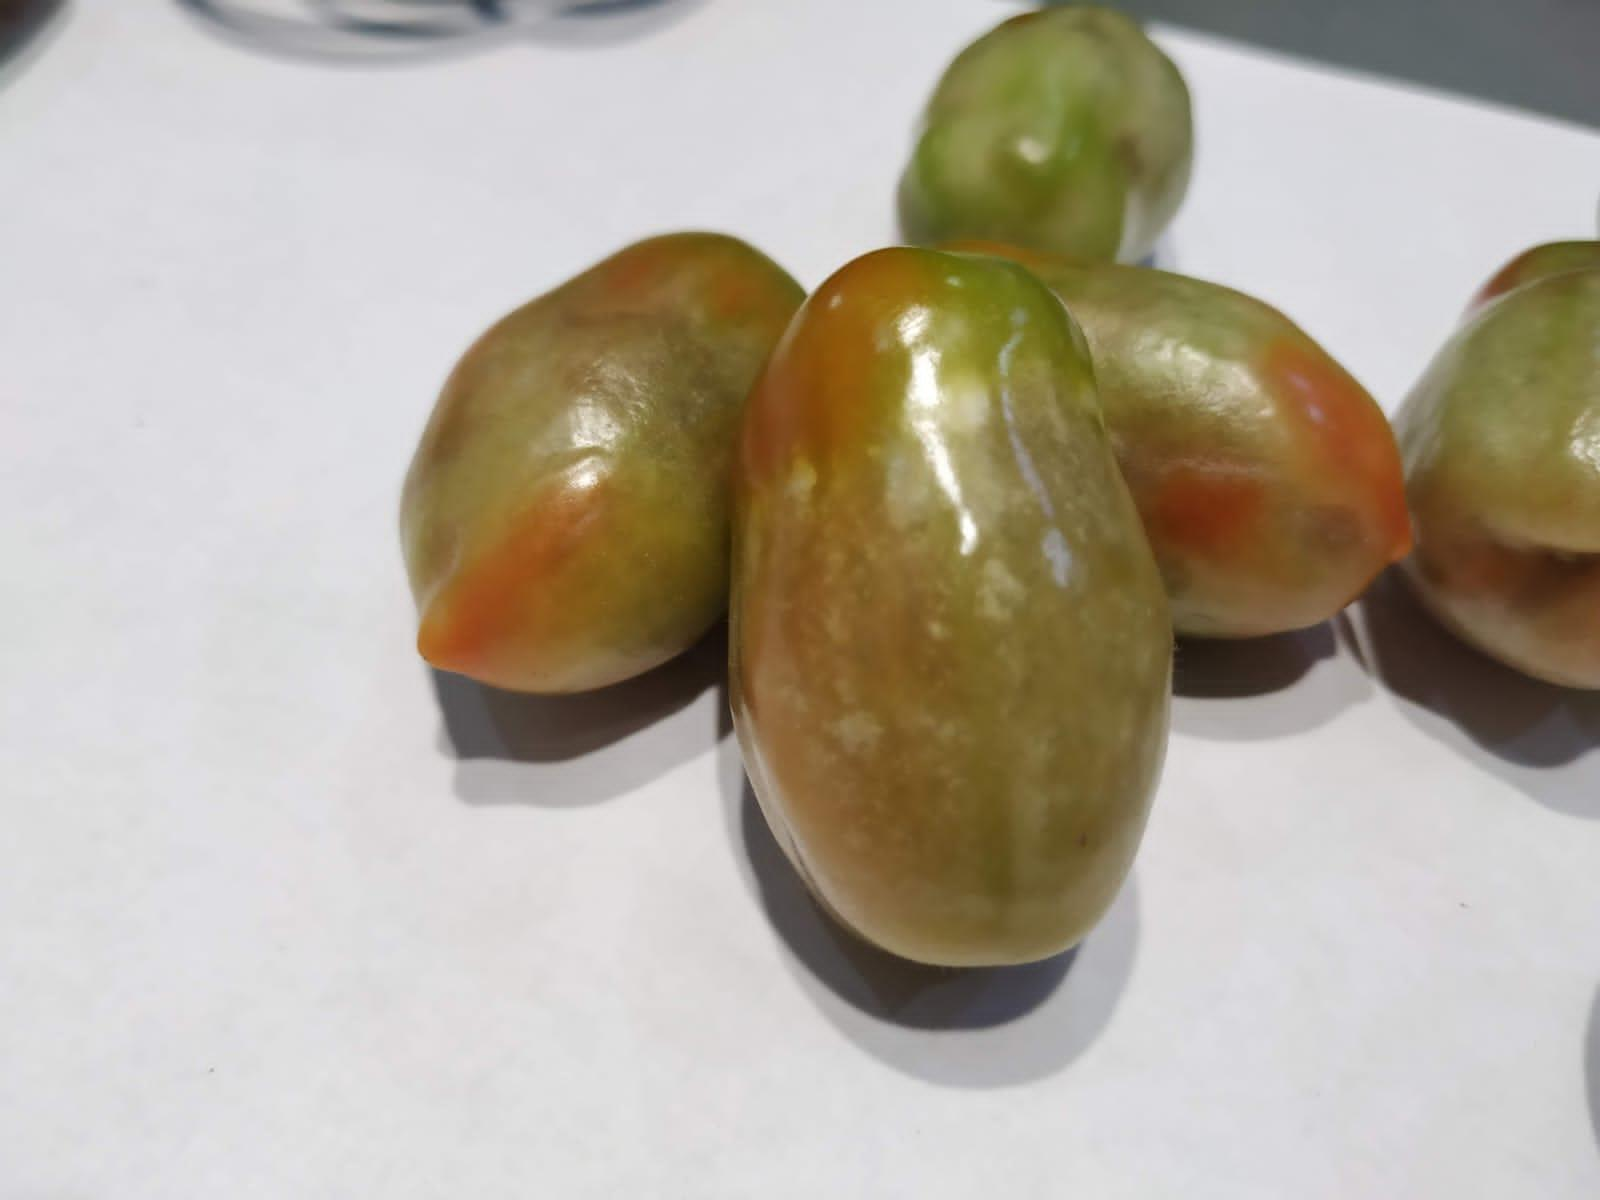Rugose tomato: (731, 247, 1172, 966), (401, 234, 806, 693), (968, 243, 1412, 638)
